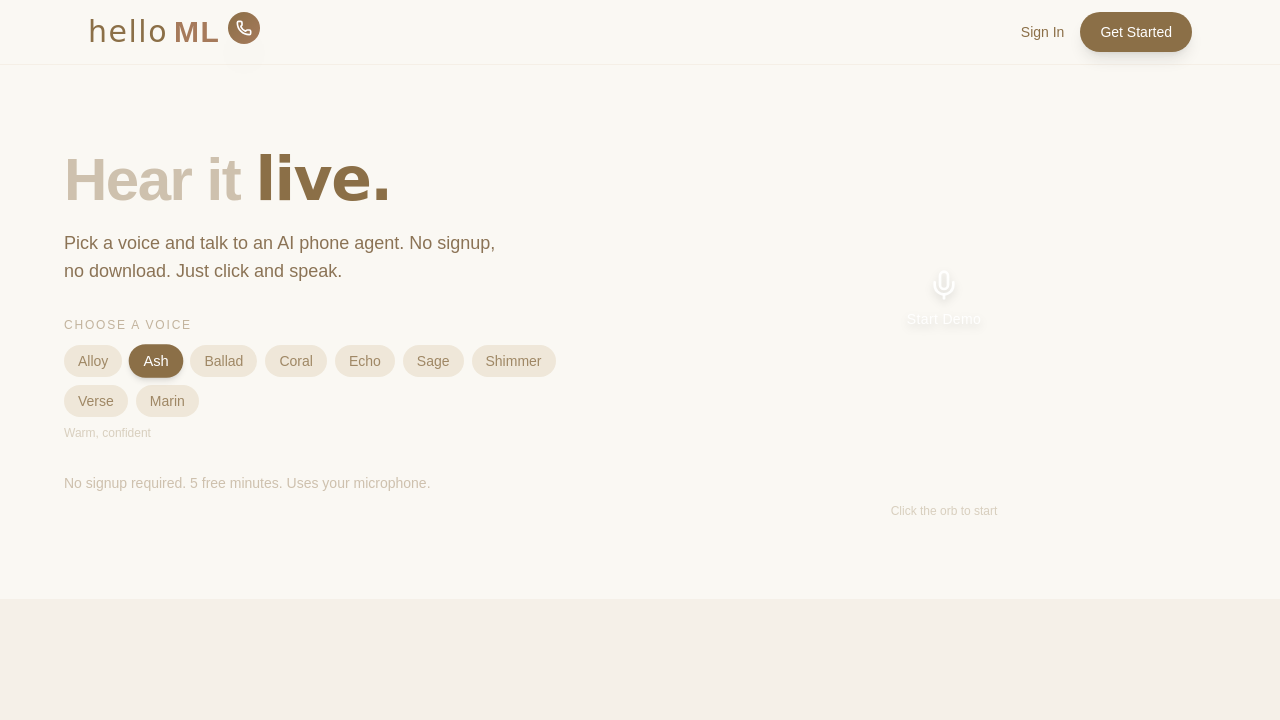
Test: Demo Section on Landing Page › shows voice description on selection
(page scrolled)
expect the text "Warm, confident" is shown: met, box [64,426,151,440]
What coordinates should you click on to do the following:
click the button "Coral"
I would click on:
 (296, 361)
Its box is [265,345,327,377].
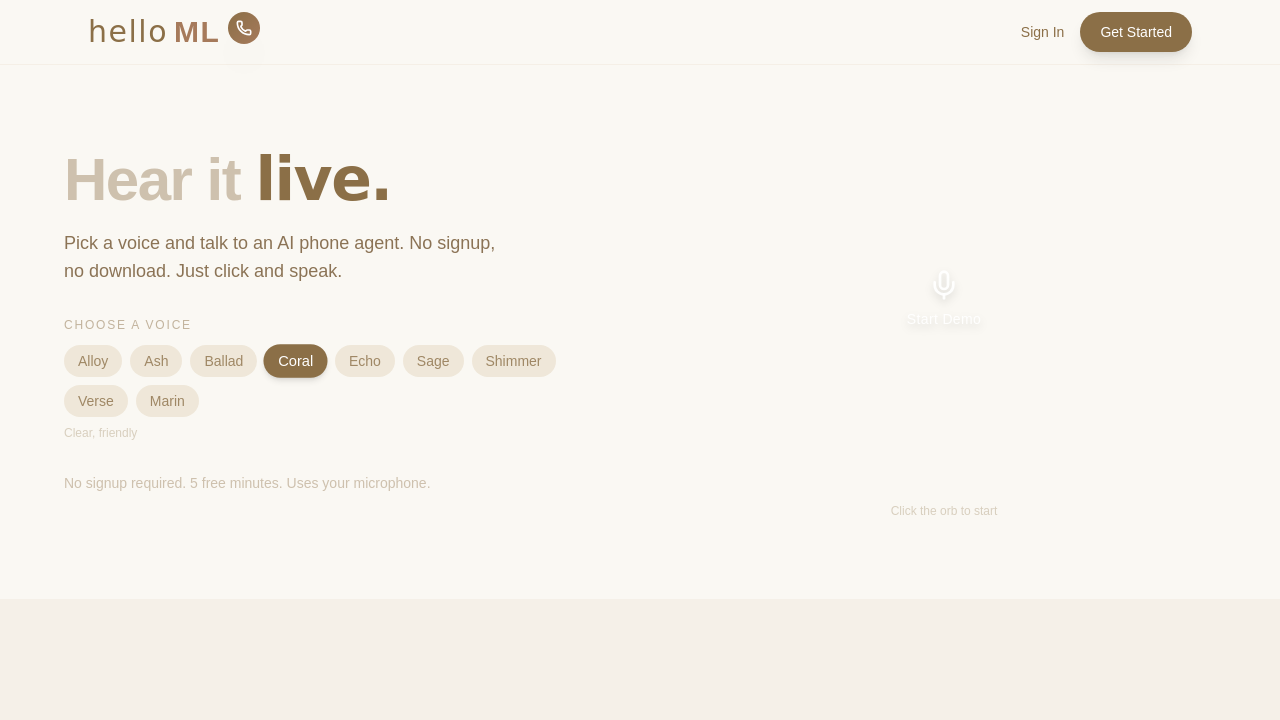
expect the text "Clear, friendly" is shown: met, box [64,426,137,440]
